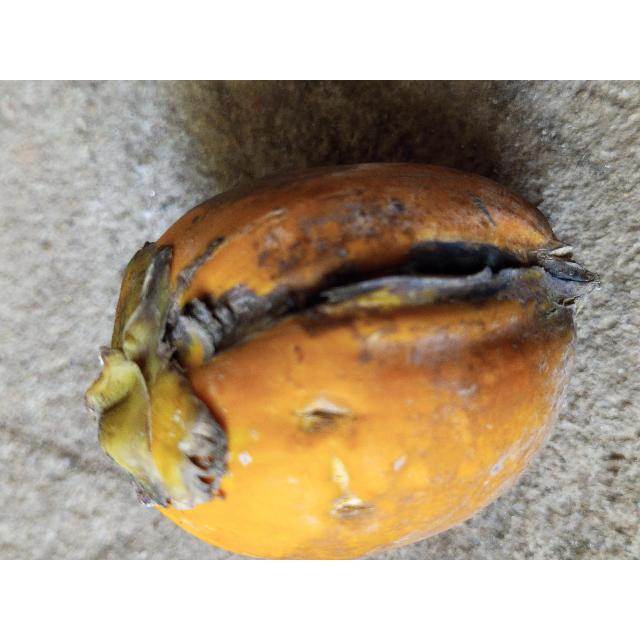damaged: (85, 163, 596, 558)
